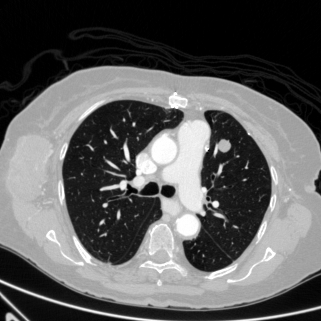nodule: (218, 140, 230, 152)
